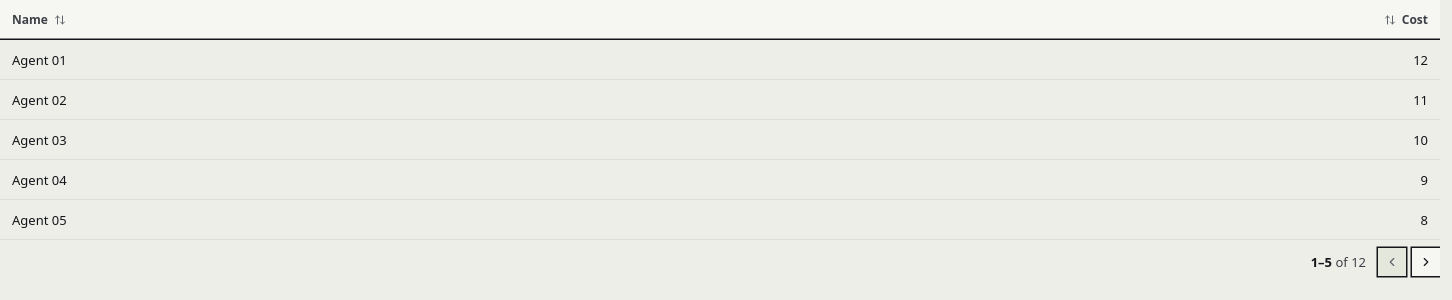
Test: DataTable — paging, server data, bulk actions and columns › slices client rows into pages and goes back to page 1 when the order changes
The image size is (1452, 300).
Expected: the text "1–5 of 12" is shown, [1311,253,1366,271]
Step 1. Click the button named "Next page" → (1426, 262), box [1412,248,1440,276]
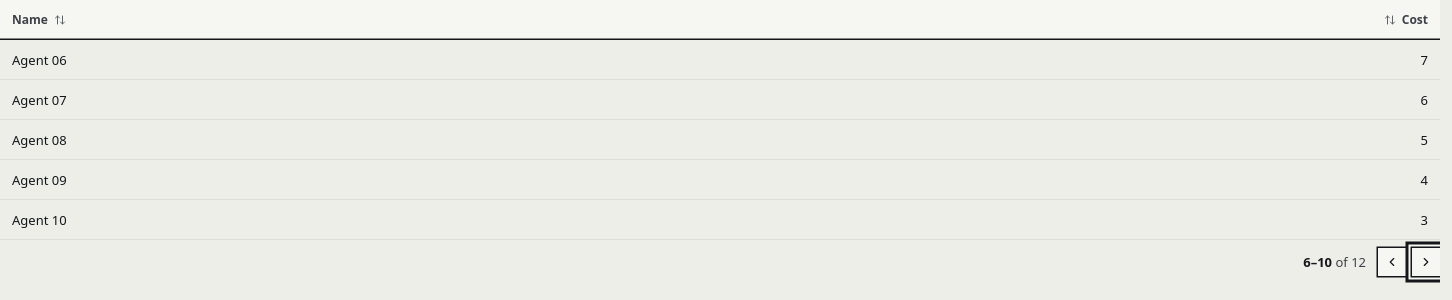
Expected: the cell "Agent 06" is shown, [0,40,771,80]
Step 2. Click the button "Cost" → (1406, 20), box [1378,8,1434,32]
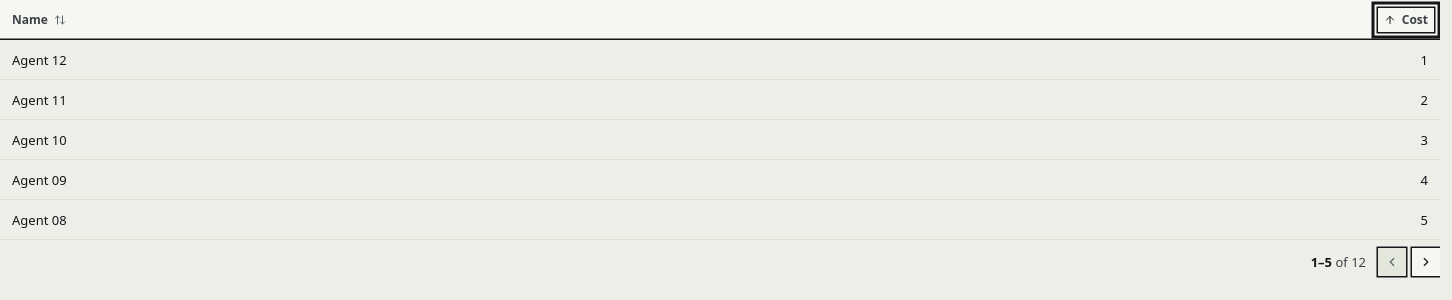
Expected: the cell "Agent 12" is shown, [0,40,771,80]
